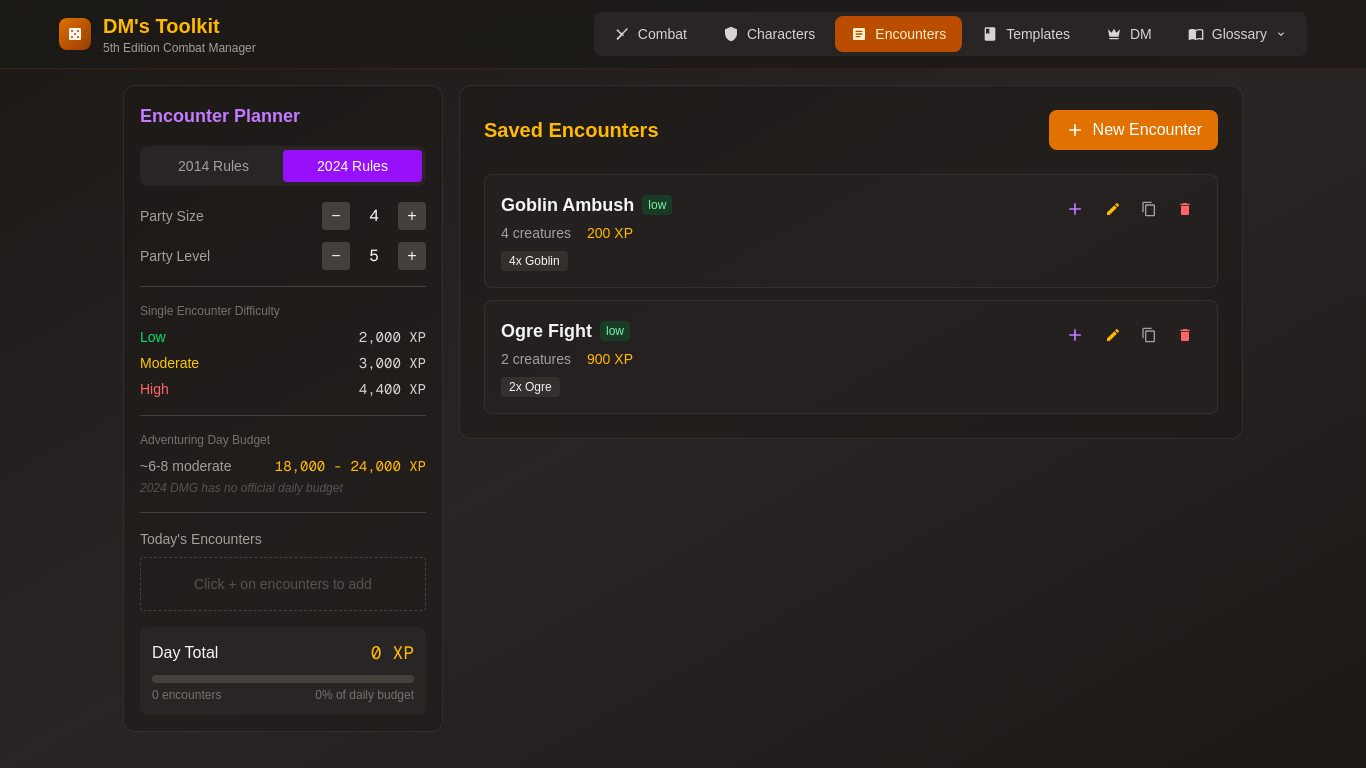
Scenario: EncountersPage › deleting an encounter removes it after confirmation
This screenshot has width=1366, height=768.
expect the heading "Saved Encounters" is shown: met, box x1=484 y1=116 x2=658 y2=144
Click the button titled "Delete" in the row of "Goblin Ambush": [1185, 209] box x1=1169 y1=193 x2=1201 y2=225
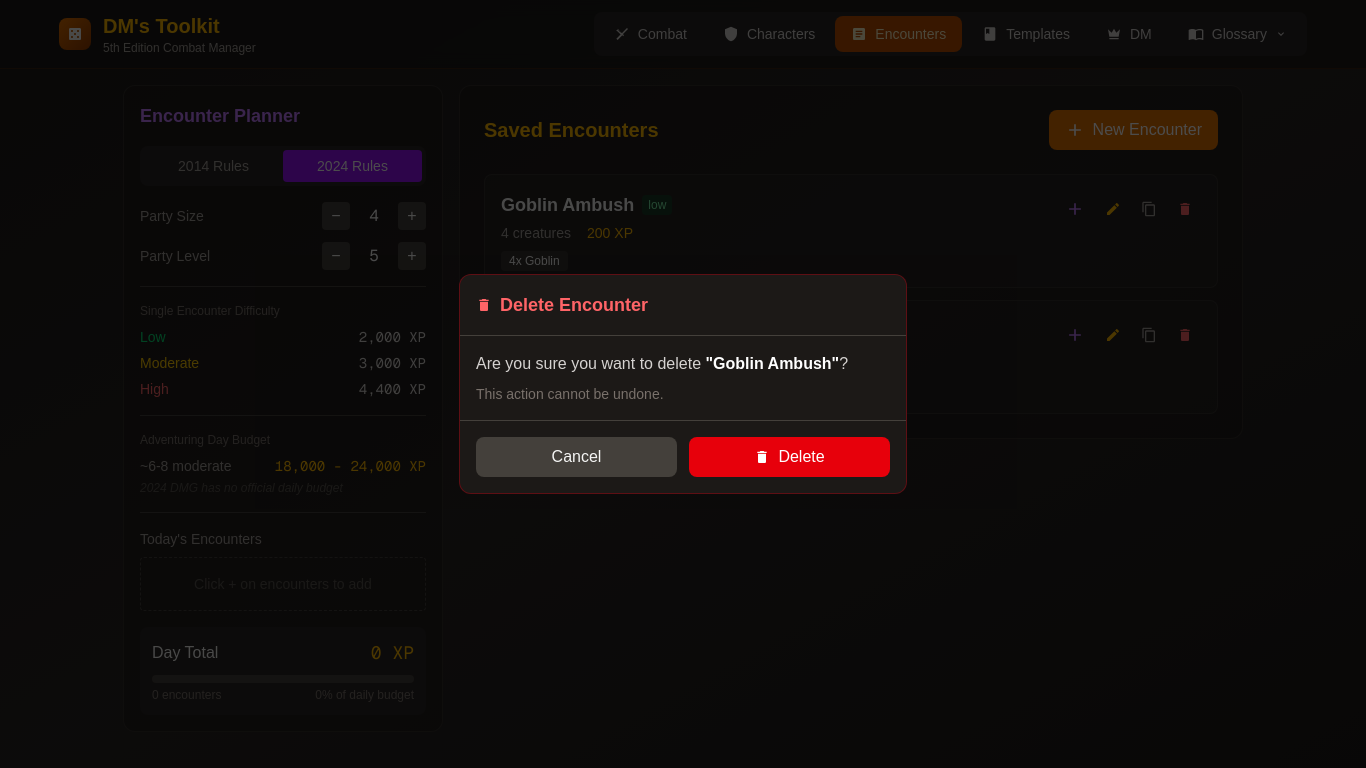
# Scope to the confirmation modal: row icon buttons also have the accessible name "Delete"
Click the button "Delete": [790, 457] box x1=689 y1=437 x2=890 y2=477
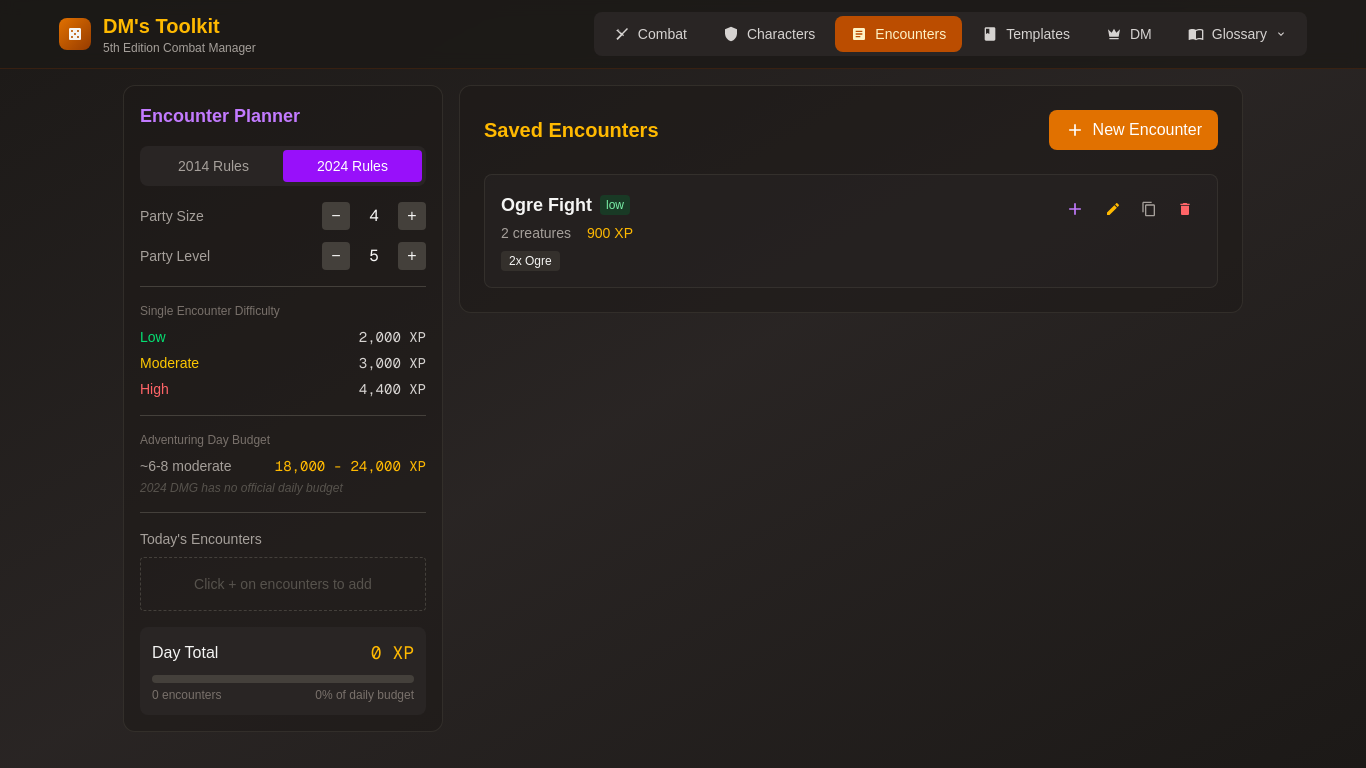
expect the heading "Ogre Fight" is shown: met, box x1=501 y1=191 x2=592 y2=219
expect the heading "Goblin Ambush" is gone: met
